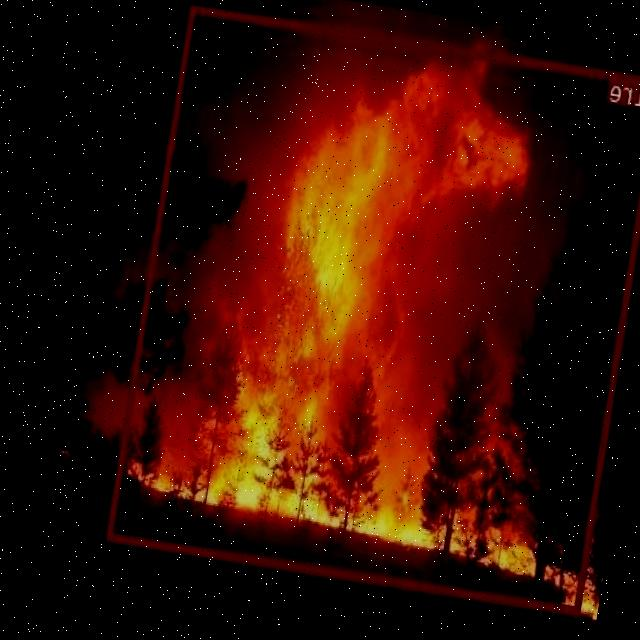fire: (107, 4, 640, 614)
